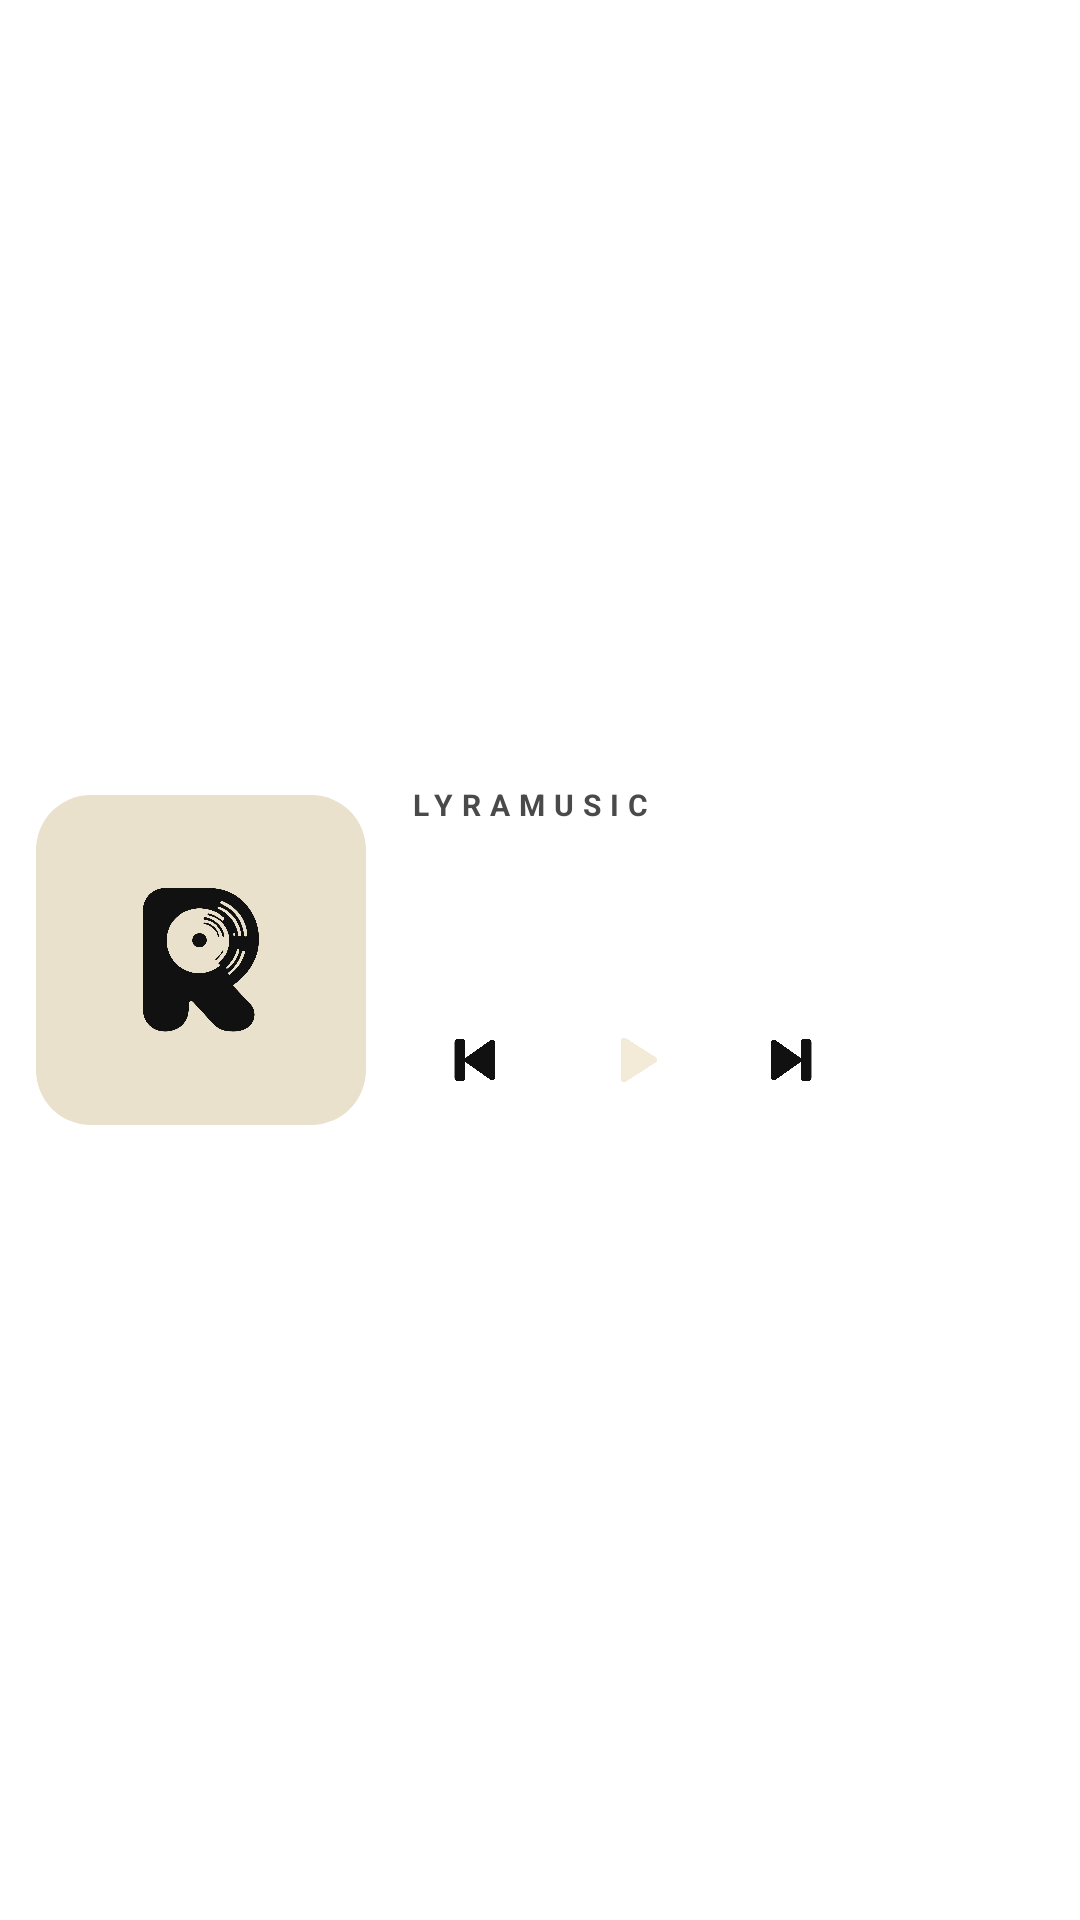

Icons on this 1080px x 1920px Android screen, each with the point to tap as [x,y]:
Next: [791,1060]
Play: [639,1060]
Previous: [474,1060]
